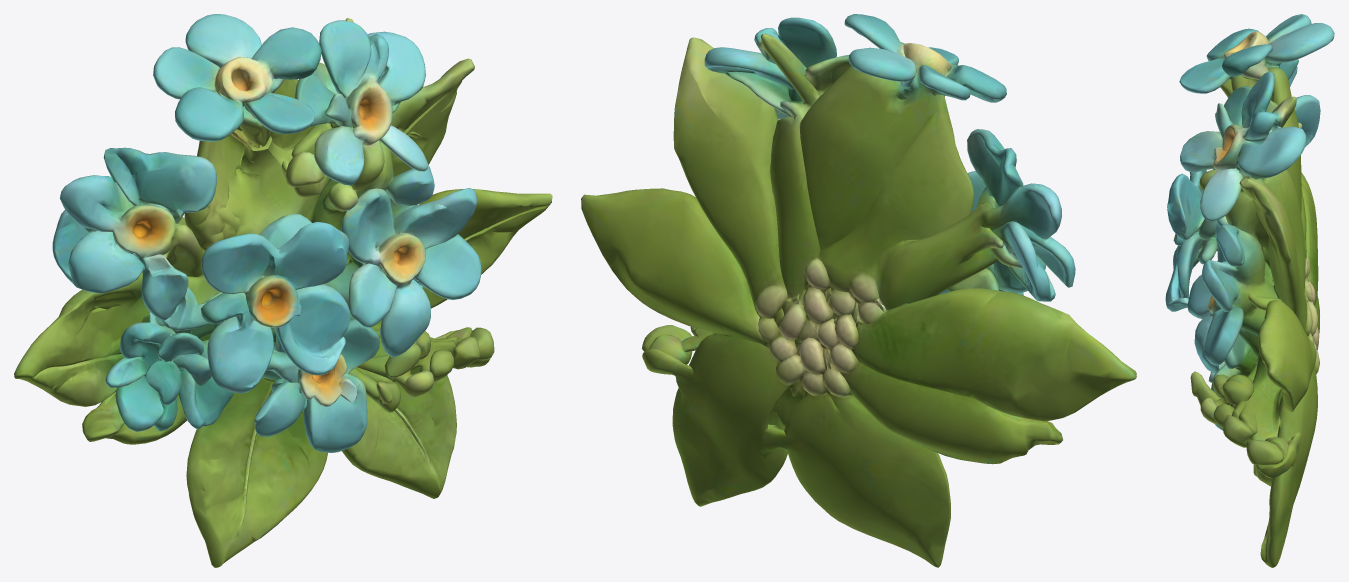
File: forget_me_not.glb
The picture shows the model from 3 angles, left to right: view 1: azimuth 30°, elevation 25°; view 2: azimuth 150°, elevation 25°; view 3: azimuth 270°, elevation 25°; orthographic projection. The views are drawn at different scales.
Parts seen in each view (by area): view 1: model; view 2: model; view 3: model.
Part boxes in pixels (bbox=[...]): model: bbox=[14, 14, 552, 567]; model: bbox=[581, 14, 1136, 567]; model: bbox=[1165, 14, 1334, 567].
Bounding box in the file's own units: 1.9 × 1.74 × 0.5745.
1 material, 1 textured.
